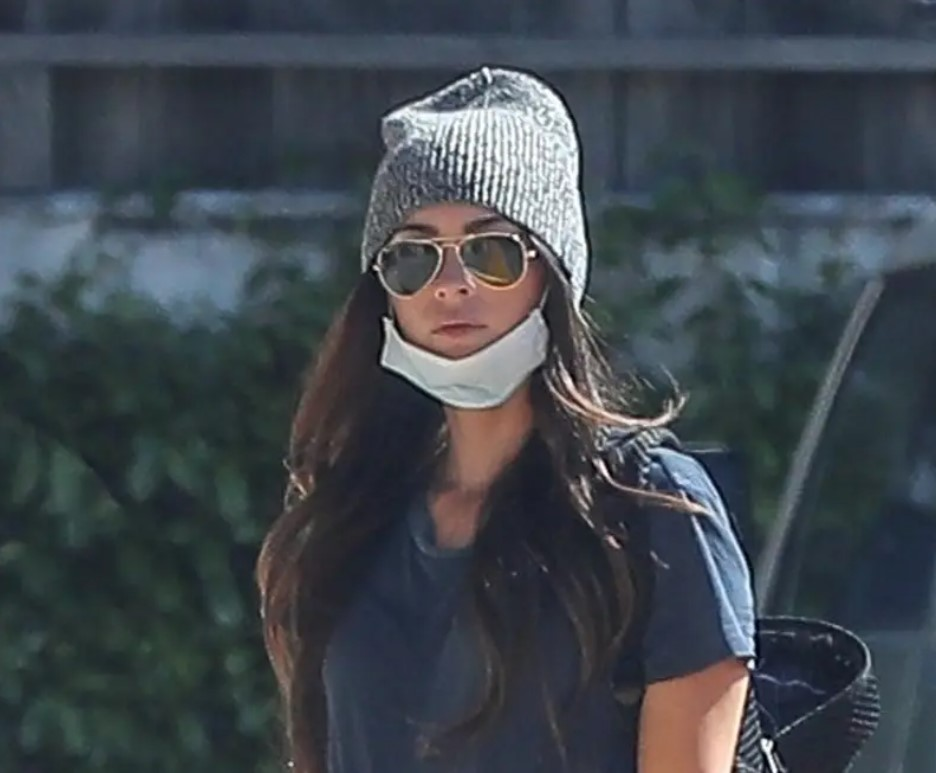face_with_mask: (362, 70, 588, 416)
